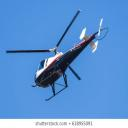helicopter: (7, 11, 105, 102)
